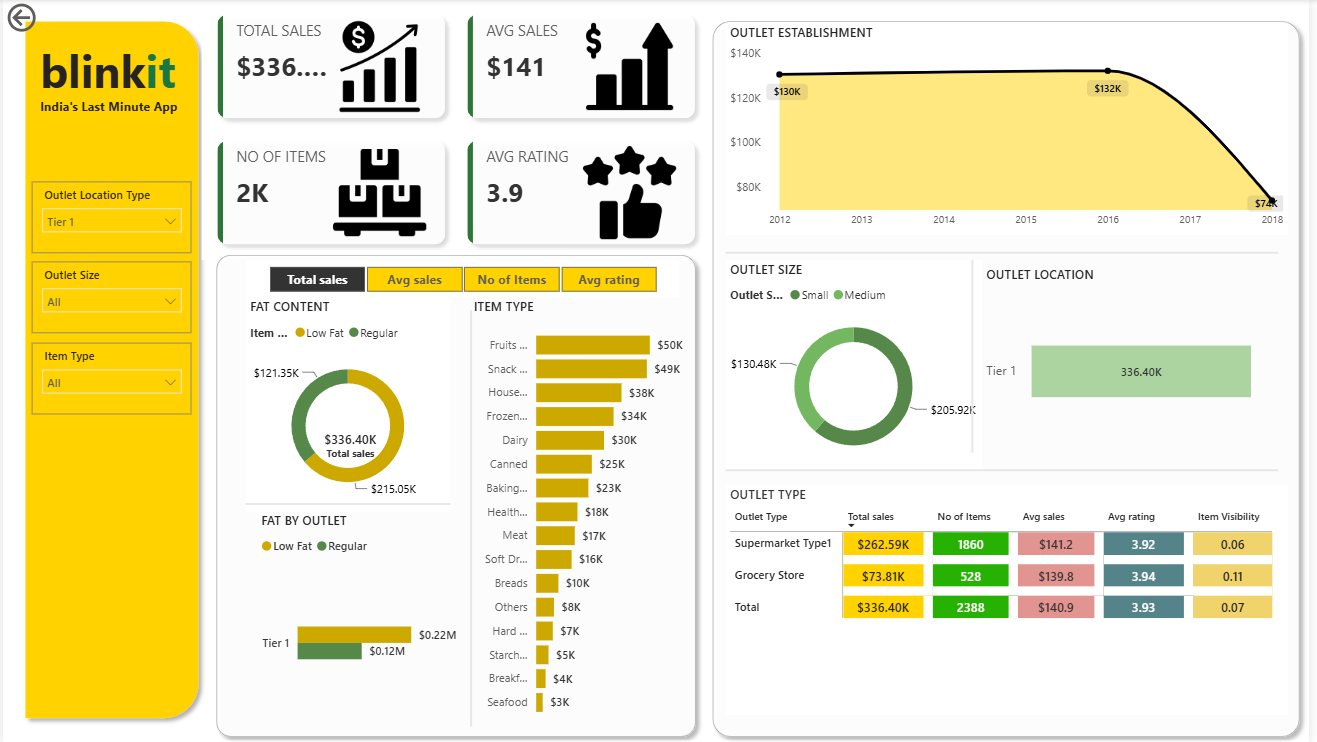

What the dashboard file says about the page in this screenshot:
{"tool":"powerbi","page":{"name":"Page 1","canvas":[1400,800],"ordinal":0},"visuals":[{"type":"shape","box":[15,15,204.1,765.4],"z":0},{"type":"textbox","box":[34.5,39,165.1,100.6],"z":1000},{"type":"textbox","box":[34.5,100.6,184.6,57],"z":2000},{"type":"cardVisual","fields":{"Data":["BlinkIT Grocery Data.Total sales","BlinkIT Grocery Data.Avg sales","BlinkIT Grocery Data.No of Items","BlinkIT Grocery Data.Avg rating"]},"box":[213.1,0,546.9,280.2],"z":3000},{"type":"shape","box":[219.8,265.4,532.2,534.9],"z":4000},{"type":"donutChart","title":"FAT CONTENT","fields":{"Y":["BlinkIT Grocery Data.Total sales"],"Category":["BlinkIT Grocery Data.Item Fat Content"]},"box":[260.1,320.4,219.8,229.2],"z":5000},{"type":"slicer","fields":{"Values":["Metrics 2.Metrics"]},"box":[260.1,280.2,465.1,40.2],"z":6000},{"type":"cardVisual","fields":{"Data":["BlinkIT Grocery Data.Total sales"]},"box":[289.7,435.3,166.6,85.5],"z":7000},{"type":"clusteredBarChart","title":"FAT BY OUTLET","fields":{"Y":["BlinkIT Grocery Data.Total sales"],"Category":["BlinkIT Grocery Data.Outlet Location Type"],"Series":["BlinkIT Grocery Data.Item Fat Content"]},"box":[272.1,549.6,219.8,230.6],"z":8000},{"type":"shape","box":[260.1,533.5,219.8,16.1],"z":9000},{"type":"shape","box":[492,333.8,20.1,446.4],"z":10000},{"type":"barChart","title":"ITEM TYPE","fields":{"Y":["BlinkIT Grocery Data.Total sales"],"Category":["BlinkIT Grocery Data.Item Type"]},"box":[500,320.4,234.6,459.8],"z":11000},{"type":"shape","box":[752,14.7,647.5,785.5],"z":12000},{"type":"lineChart","title":"OUTLET ESTABLISHMENT","fields":{"Category":["BlinkIT Grocery Data.Outlet Establishment Year"],"Y":["BlinkIT Grocery Data.Total sales"]},"box":[774.8,26.8,603.2,226.5],"z":13000},{"type":"shape","box":[774.8,264.1,592.5,16.1],"z":14000},{"type":"donutChart","title":"OUTLET SIZE","fields":{"Y":["BlinkIT Grocery Data.Total sales"],"Category":["BlinkIT Grocery Data.Outlet Size"]},"box":[774.8,280.2,274.8,225.2],"z":15000},{"type":"funnel","title":"OUTLET LOCATION","fields":{"Y":["Sum(BlinkIT Grocery Data.Sales)"],"Category":["BlinkIT Grocery Data.Outlet Location Type"]},"box":[1049.6,285.5,298.9,210.5],"z":16000},{"type":"shape","box":[774.8,497.3,592.5,16.1],"z":17000},{"type":"shape","box":[1029.5,280.2,20.1,206.4],"z":18000},{"type":"pivotTable","title":"OUTLET TYPE","fields":{"Rows":["BlinkIT Grocery Data.Outlet Type"],"Values":["BlinkIT Grocery Data.Total sales","BlinkIT Grocery Data.No of Items","BlinkIT Grocery Data.Avg sales","BlinkIT Grocery Data.Avg rating","Avg(BlinkIT Grocery Data.Item Visibility)"]},"box":[774.8,521.5,603.2,246.7],"z":19000},{"type":"actionButton","box":[0,0,100,40],"z":20000},{"type":"slicer","fields":{"Values":["BlinkIT Grocery Data.Outlet Location Type"]},"box":[30.8,195.7,171.6,76.4],"z":21000},{"type":"slicer","fields":{"Values":["BlinkIT Grocery Data.Outlet Size"]},"box":[30.8,281.5,171.6,76.4],"z":22000},{"type":"slicer","fields":{"Values":["BlinkIT Grocery Data.Item Type"]},"box":[30.8,368.6,171.6,76.4],"z":23000}]}

Visuals, with their boxes in screenshot pixels (x1, y1, x2, y2), scaled from the page's 1400x800 canvas onto the 1317x742 screenshot:
shape: (14,14,206,724)
textbox: (32,36,188,129)
textbox: (32,93,206,146)
cardVisual - BlinkIT Grocery Data.Total sales x BlinkIT Grocery Data.Avg sales: (200,0,715,260)
shape: (207,246,707,741)
"FAT CONTENT" donutChart: (245,297,451,510)
slicer - Metrics 2.Metrics: (245,260,682,297)
cardVisual - BlinkIT Grocery Data.Total sales: (273,404,429,483)
"FAT BY OUTLET" clusteredBarChart: (256,510,463,724)
shape: (245,495,451,510)
shape: (463,310,482,724)
"ITEM TYPE" barChart: (470,297,691,724)
shape: (707,14,1316,741)
"OUTLET ESTABLISHMENT" lineChart: (729,25,1296,235)
shape: (729,245,1286,260)
"OUTLET SIZE" donutChart: (729,260,987,469)
"OUTLET LOCATION" funnel: (987,265,1269,460)
shape: (729,461,1286,476)
shape: (968,260,987,451)
"OUTLET TYPE" pivotTable: (729,484,1296,713)
actionButton: (0,0,94,37)
slicer - BlinkIT Grocery Data.Outlet Location Type: (29,182,190,252)
slicer - BlinkIT Grocery Data.Outlet Size: (29,261,190,332)
slicer - BlinkIT Grocery Data.Item Type: (29,342,190,413)
